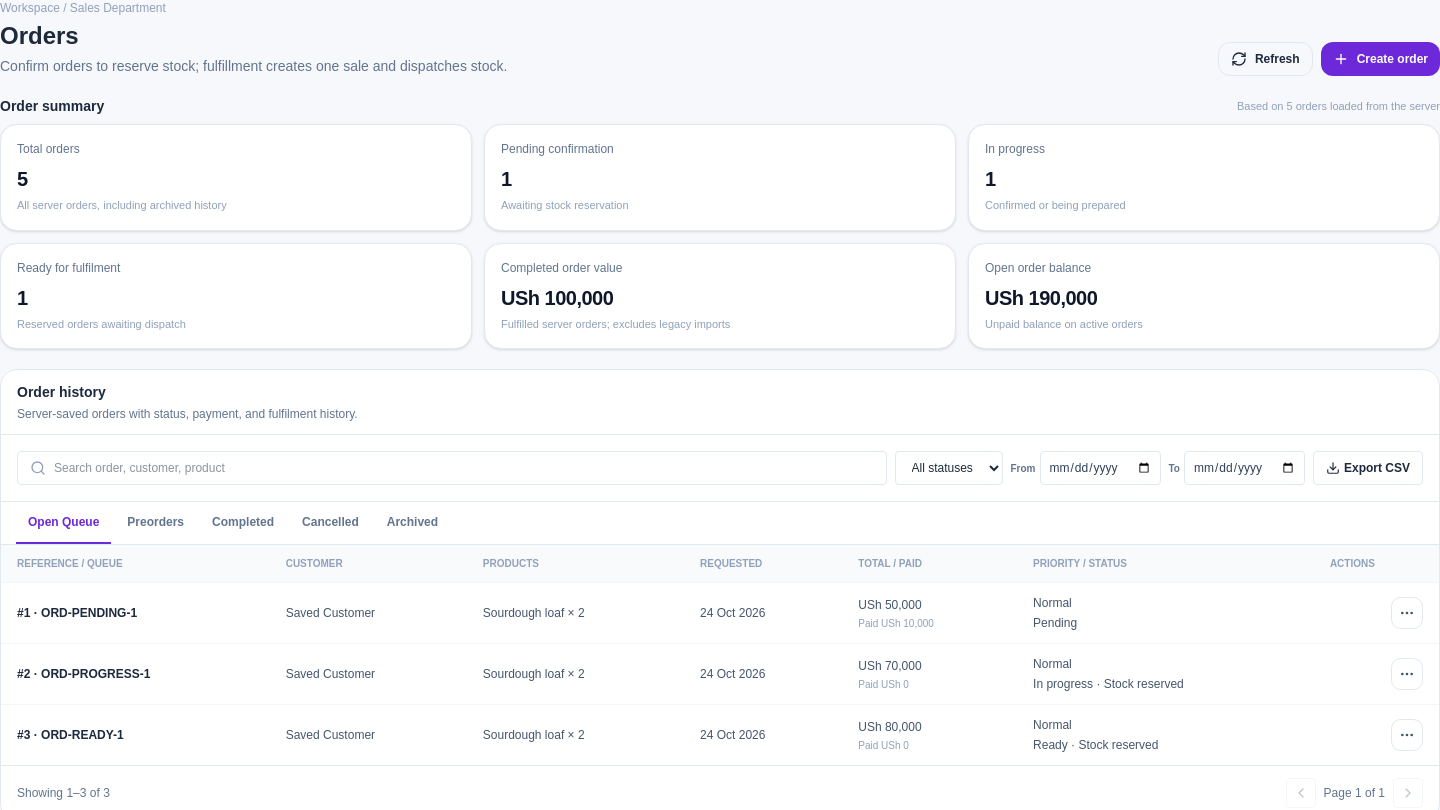
it: orders-management › lets users clear and type a whole-number quantity in the order form
This screenshot has width=1440, height=810.
Later steps or results of the test are not shown.
Step 1. Click the button "Create order" → (1380, 59), box [1321,42,1439,76]
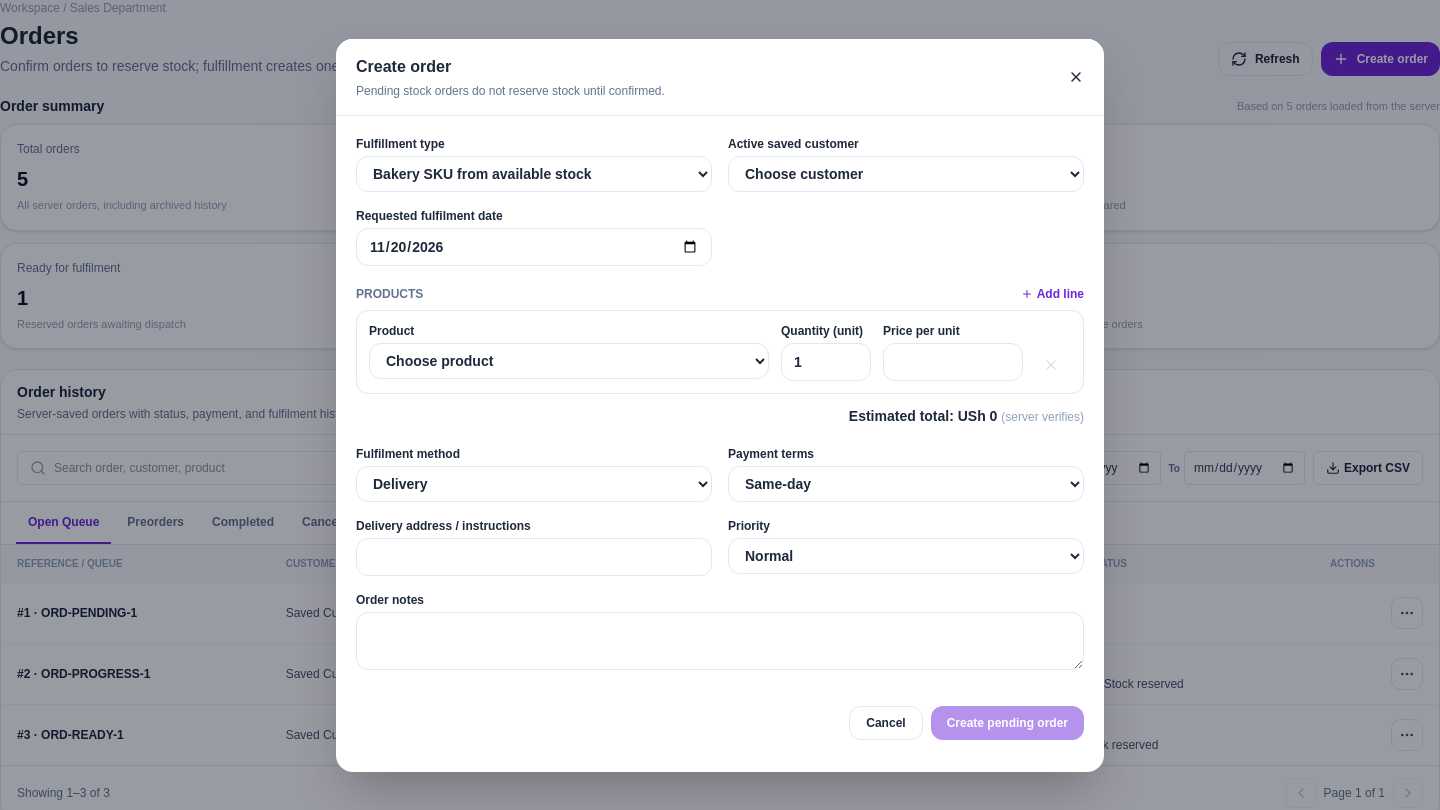
Now the number field labelled "Quantity (unit)" is shown, box [781,342,871,380]
